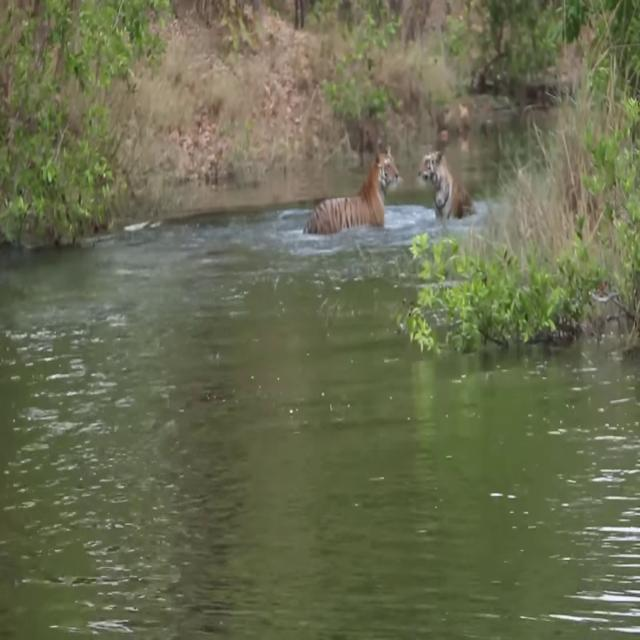tiger: (302, 141, 400, 239), (415, 148, 479, 222)
